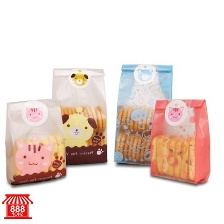snack: (110, 58, 178, 171), (44, 61, 114, 170), (0, 93, 71, 191), (144, 93, 215, 190)
